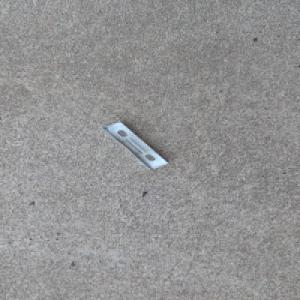ClampPart: (99, 120, 169, 171)
